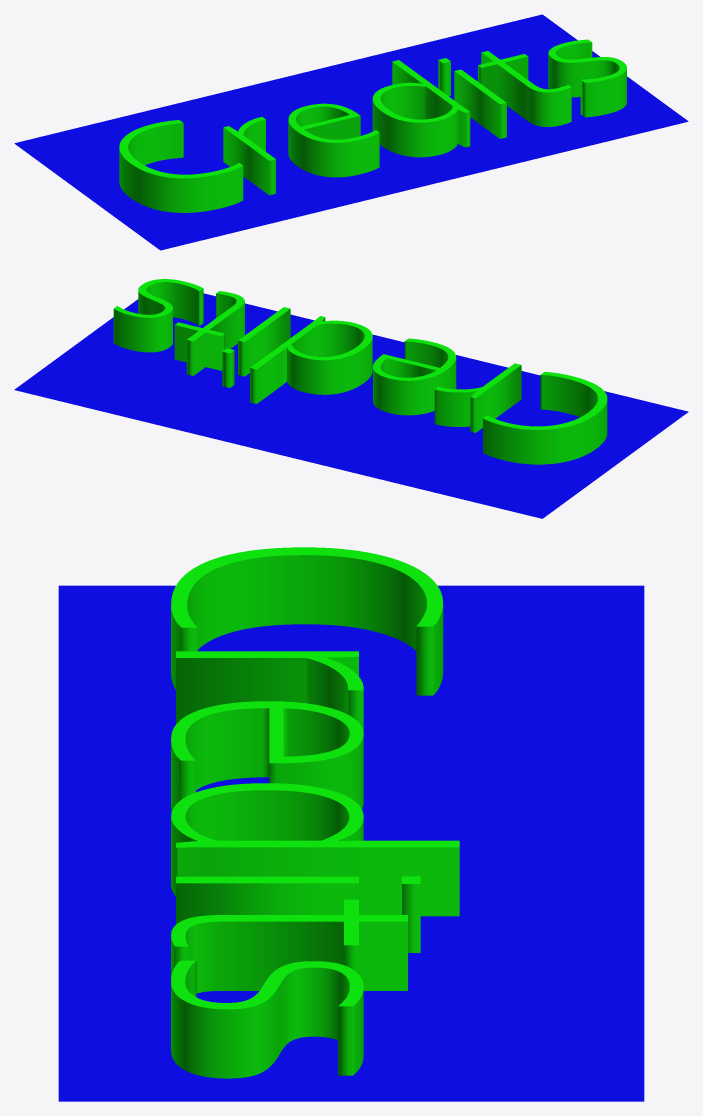
The model's file is credits.glb.
The picture shows the model from 3 angles, top to bottom: view 1: azimuth 30°, elevation 25°; view 2: azimuth 150°, elevation 25°; view 3: azimuth 270°, elevation 25°; orthographic projection. The views are drawn at different scales.
Visible parts, largest first — view 1: Plane, Text; view 2: Plane, Text; view 3: Plane, Text.
Part boxes in pixels (bbox=[...]): Plane: bbox=[14, 14, 688, 250]; Text: bbox=[119, 39, 626, 212]; Plane: bbox=[14, 293, 688, 518]; Text: bbox=[113, 279, 607, 464]; Plane: bbox=[58, 585, 644, 1101]; Text: bbox=[171, 547, 459, 1078].
Bounding box in the file's own units: 1.6 × 0.1 × 0.768.
